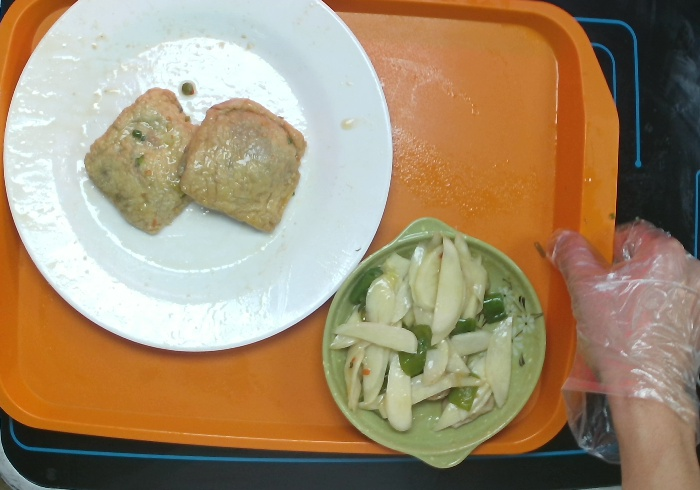NLDX-Da_Yuan_Pan: (1, 1, 398, 356)
NLDX-Lv_Hua_Shuang_Er_Die: (316, 213, 550, 474)
